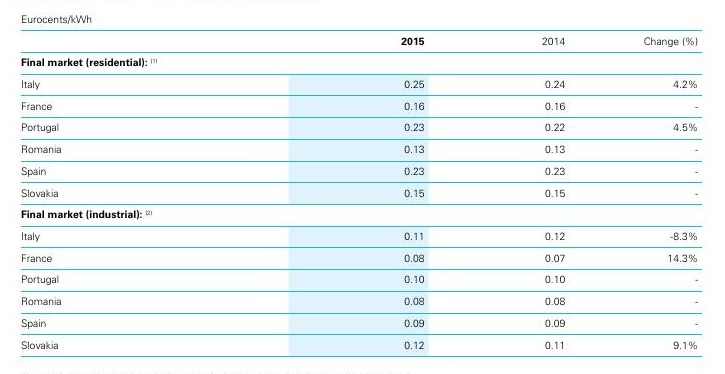table: (0, 0, 725, 374)
